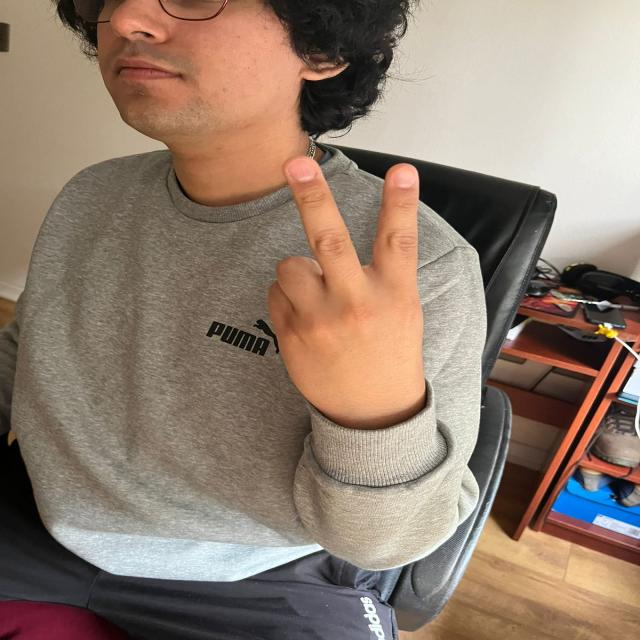V: (253, 148, 440, 411)
